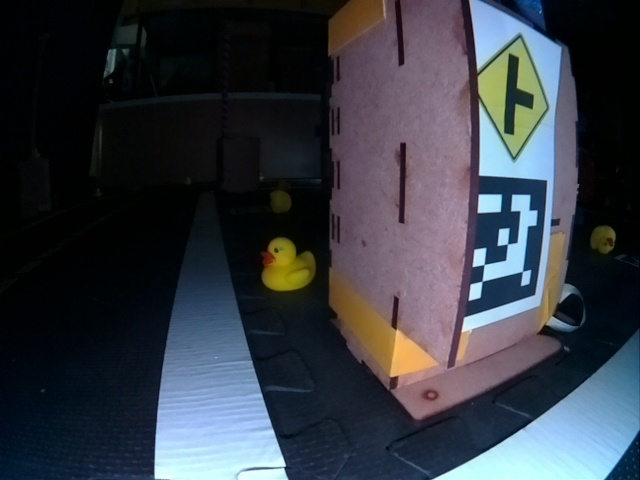Duckie: (261, 239, 315, 290), (590, 226, 616, 252), (270, 190, 292, 211)
Intersection sign: (477, 26, 559, 164)
QR code: (465, 181, 548, 322)
